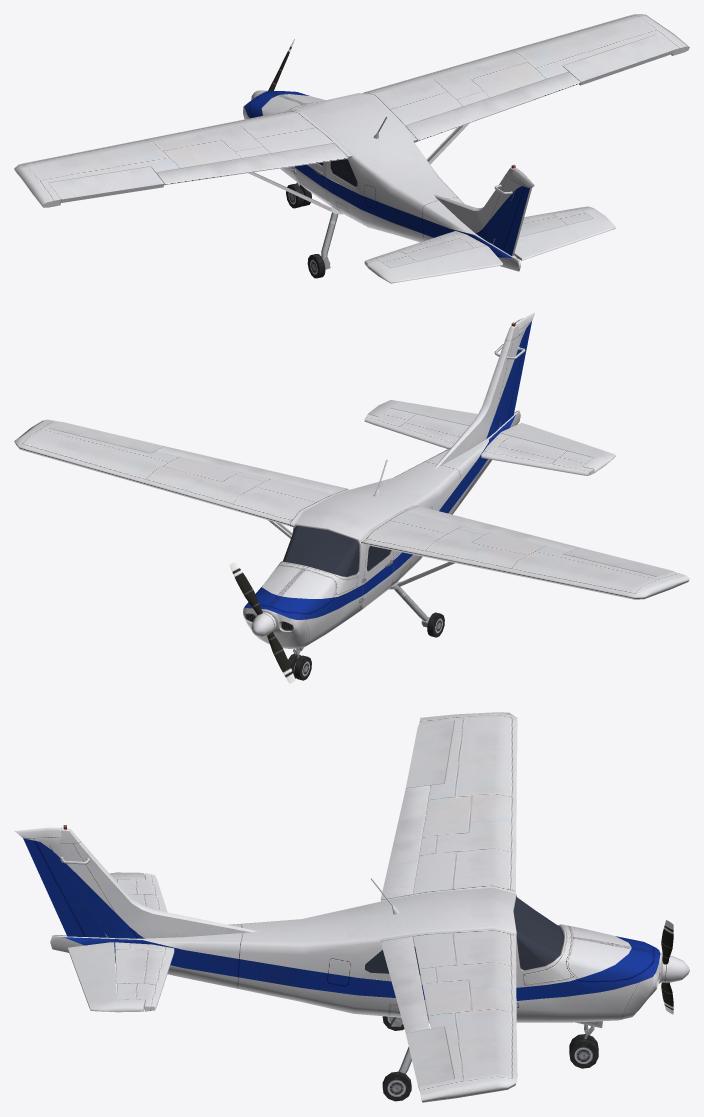
Rendered from Airplane_Propeller_With_Wheels.glb.
3 views of the same model, one above another, from view 1: azimuth 30°, elevation 25°; view 2: azimuth 150°, elevation 25°; view 3: azimuth 270°, elevation 25° (orthographic). The views are drawn at different scales.
Visible parts, largest first — view 1: Airplane_Propeller_With_Wheels__LOD3; view 2: Airplane_Propeller_With_Wheels__LOD3; view 3: Airplane_Propeller_With_Wheels__LOD3.
Part boxes in pixels (x1=…): Airplane_Propeller_With_Wheels__LOD3: x1=14, y1=14, x2=689, y2=283; Airplane_Propeller_With_Wheels__LOD3: x1=14, y1=312, x2=689, y2=683; Airplane_Propeller_With_Wheels__LOD3: x1=14, y1=712, x2=689, y2=1102.
Size of the model in its own units: 11.49 by 3.35 by 8.6.
1 material, 1 textured.
